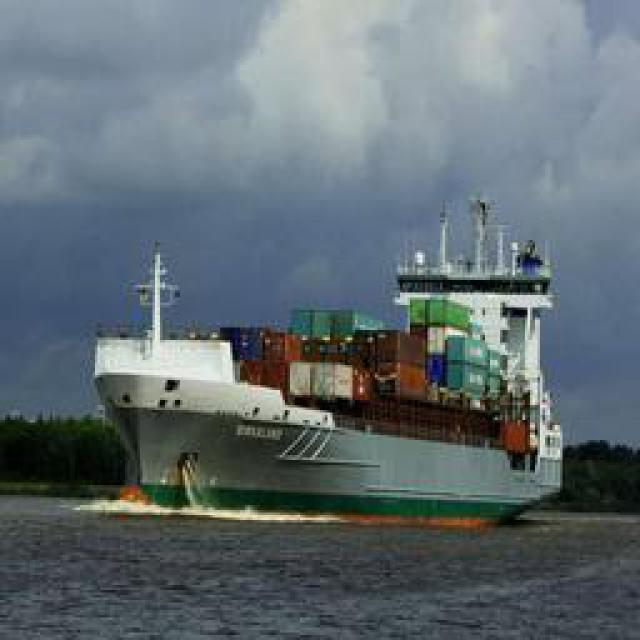Ship: (91, 230, 569, 518)
